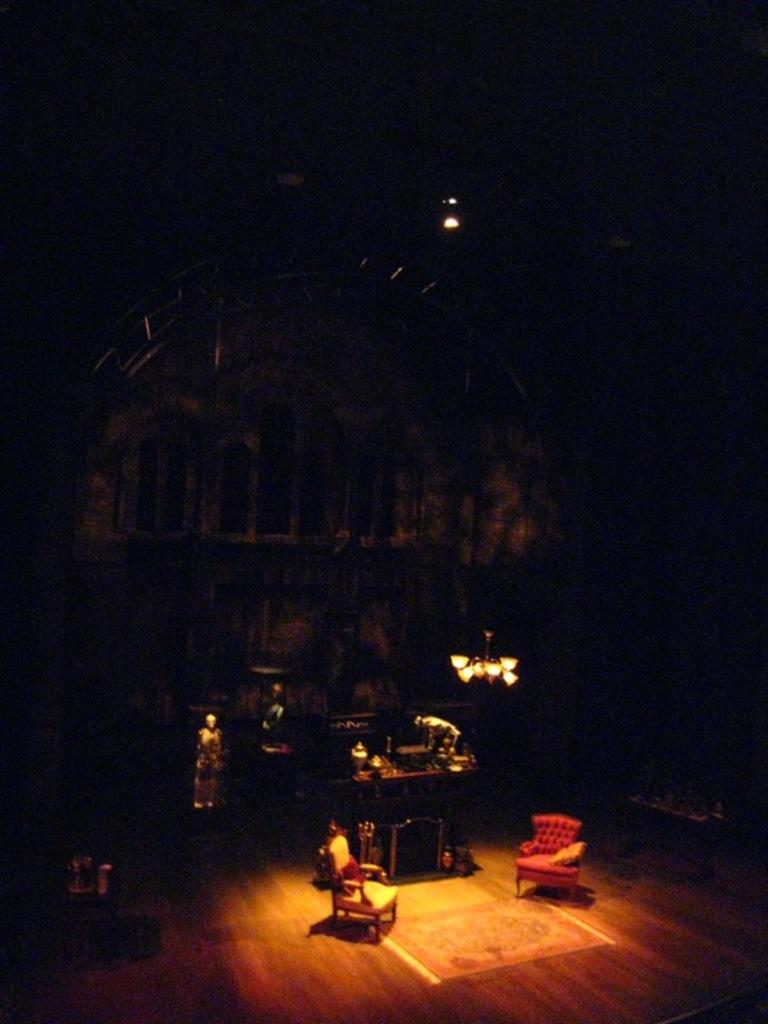Chair: (323, 827, 399, 943), (509, 820, 599, 909)
